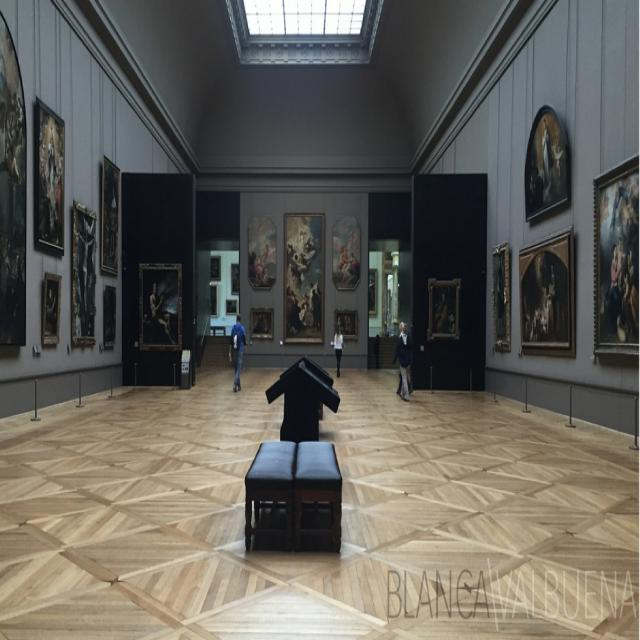body: (0, 62, 123, 356), (249, 214, 326, 345), (597, 178, 637, 352), (518, 258, 565, 351), (522, 109, 567, 203), (141, 272, 180, 352), (207, 255, 238, 316), (227, 312, 248, 394), (333, 232, 359, 296), (490, 258, 507, 348), (429, 286, 459, 334), (394, 321, 412, 398), (397, 322, 413, 402), (332, 320, 344, 378), (366, 270, 376, 314), (336, 313, 352, 336)
